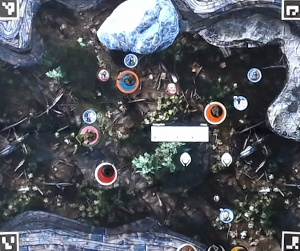light_blue_orange: (116, 70, 139, 93)
orange: (204, 101, 227, 124)
pink_green: (76, 126, 99, 149)
red: (92, 162, 115, 185)
